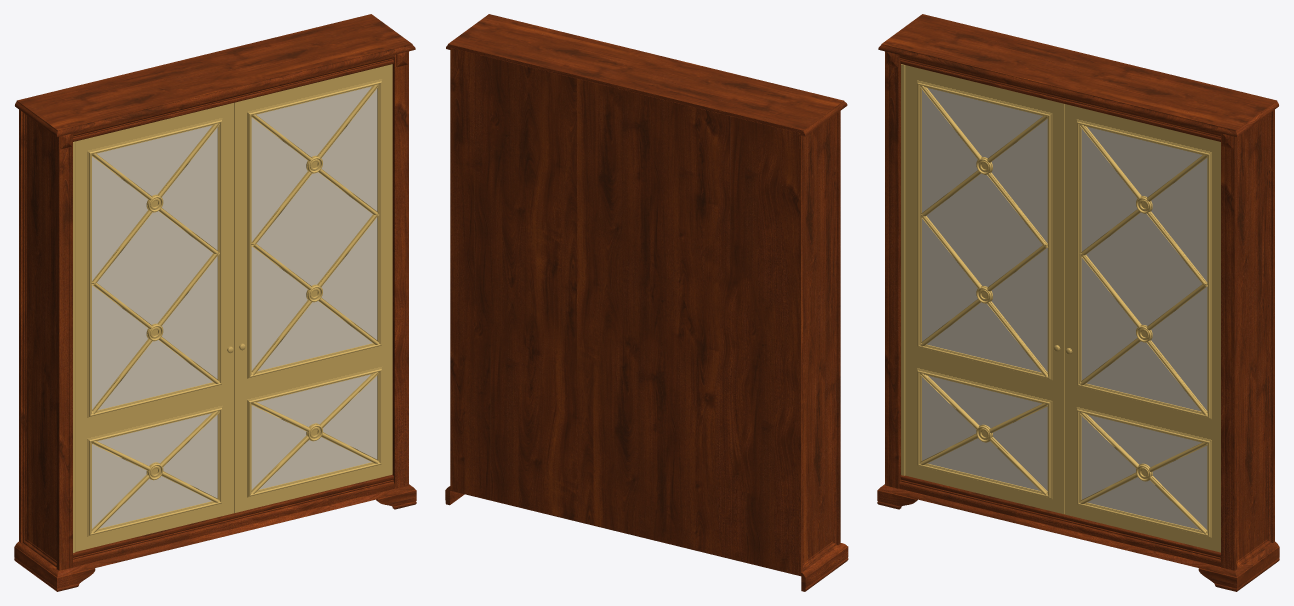
File: Wardrobe Country N240822.obj
3 renders of one model, left to right at view 1: azimuth 30°, elevation 25°; view 2: azimuth 150°, elevation 25°; view 3: azimuth 330°, elevation 25°, orthographic.
Parts seen in each view (by area): view 1: Object047, shelf_little, Top001, Strip001, Side_left002, Object048, Strip_G003, Bottom002, Front_frame007, Backboard001, Strip_G004, Mounting_base_left001; view 2: Backboard001, Top001, Side_left002, Front_frame007, Strip001, Bottom002, Mounting_base_left001; view 3: Object047, shelf_little, Top001, Strip001, Side_left002, Object048, Strip_G003, Bottom002, Front_frame006, Backboard001, Strip_G004, Mounting_base_left001.
Part boxes in pixels (bbox=[...]): Object047: bbox=[92, 86, 377, 528]; shelf_little: bbox=[73, 64, 392, 552]; Top001: bbox=[15, 14, 415, 136]; Strip001: bbox=[56, 51, 408, 570]; Side_left002: bbox=[27, 115, 56, 560]; Object048: bbox=[73, 60, 393, 557]; Strip_G003: bbox=[73, 479, 394, 566]; Bottom002: bbox=[15, 484, 415, 577]; Front_frame007: bbox=[22, 112, 56, 567]; Backboard001: bbox=[19, 110, 22, 542]; Strip_G004: bbox=[73, 55, 394, 137]; Mounting_base_left001: bbox=[14, 489, 416, 591]; Backboard001: bbox=[450, 48, 802, 575]; Top001: bbox=[446, 14, 847, 136]; Side_left002: bbox=[803, 117, 832, 562]; Front_frame007: bbox=[803, 113, 837, 569]; Strip001: bbox=[837, 111, 840, 544]; Bottom002: bbox=[446, 486, 847, 577]; Mounting_base_left001: bbox=[445, 489, 848, 591]; Object047: bbox=[922, 87, 1207, 529]; shelf_little: bbox=[901, 64, 1220, 552]; Top001: bbox=[878, 14, 1278, 136]; Strip001: bbox=[885, 51, 1237, 570]; Side_left002: bbox=[1237, 115, 1266, 560]; Object048: bbox=[900, 60, 1220, 557]; Strip_G003: bbox=[899, 479, 1220, 566]; Bottom002: bbox=[878, 484, 1278, 577]; Front_frame006: bbox=[1237, 112, 1271, 567]; Backboard001: bbox=[1271, 110, 1274, 542]; Strip_G004: bbox=[899, 55, 1220, 137]; Mounting_base_left001: bbox=[877, 489, 1279, 591].
Bounding box in the file's own units: 1800 × 2200 × 371.
